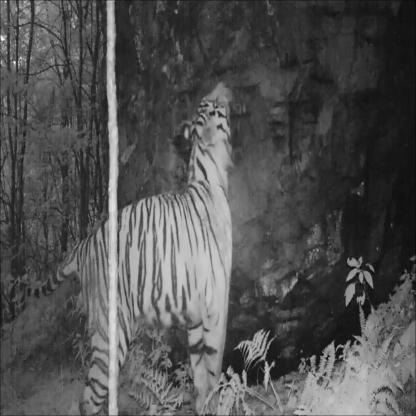Tiger: (50, 89, 270, 400)
